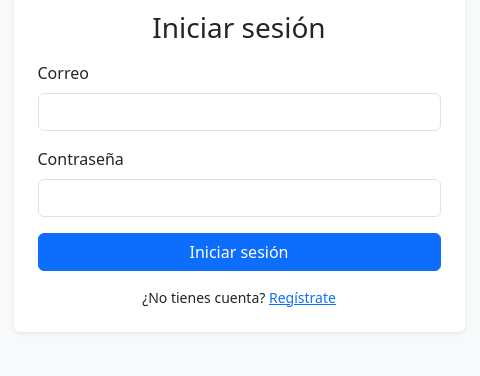
it: Autenticación y roles › Login muestra error si la contraseña no tiene entre 4 y 10 caracteres
Step 1. Type "a@duoc.cl" into the field with test id "login-correo" → (239, 112), box [38,93,440,131]
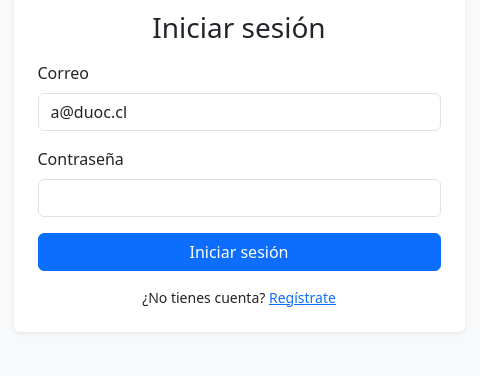
Step 2. Type "12" into the password field with test id "login-password" → (239, 198), box [38,179,440,217]
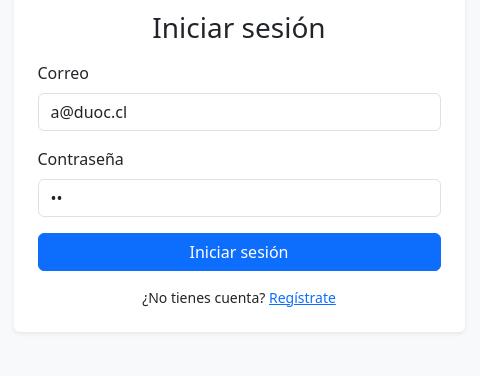
Step 3. Click the button with test id "btn-login" → (239, 252), box [38,233,440,271]
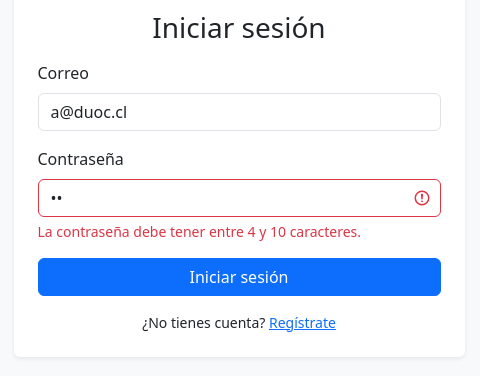
Expected: the text with test id "error-login-password" shows "entre 4 y 10", [38,222,361,241]
